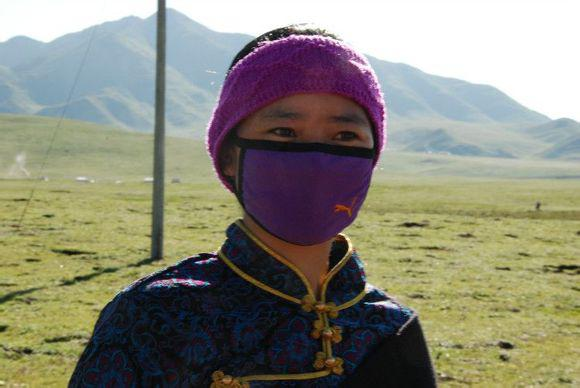OK: (240, 102, 373, 238)
